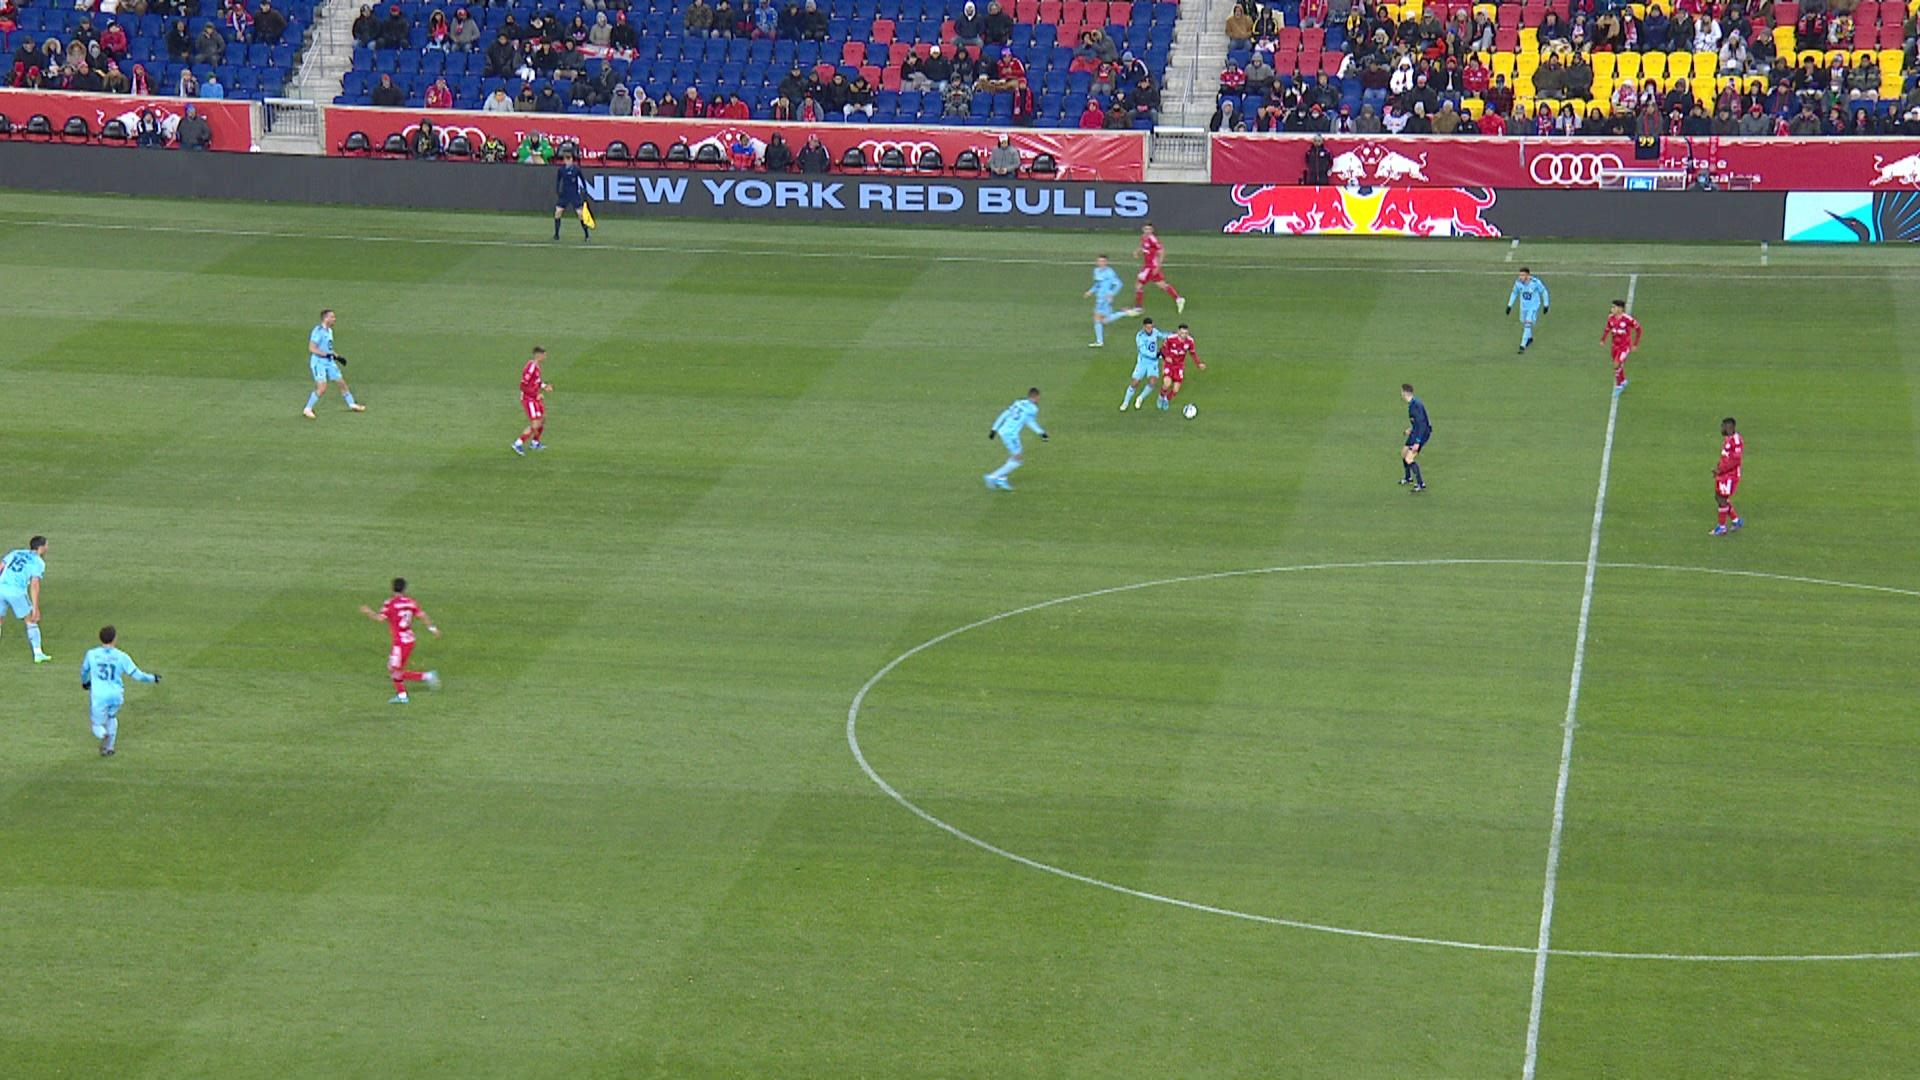football: (1182, 402, 1199, 419)
